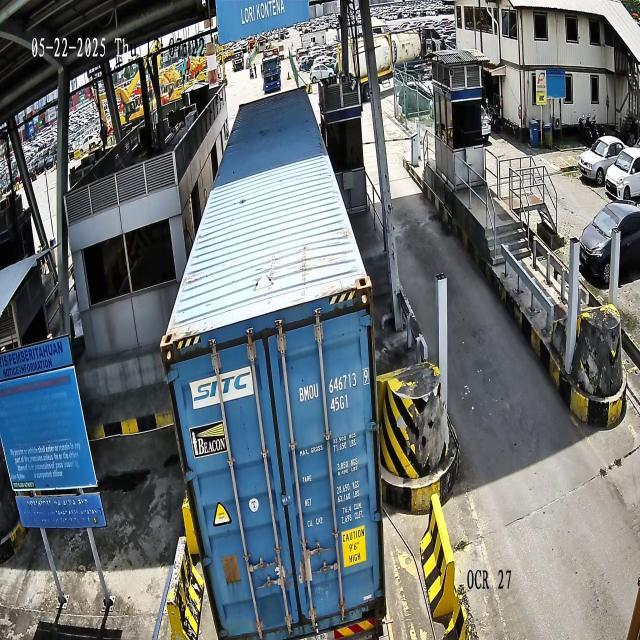ISO: (330, 392, 350, 413)
container_number: (298, 366, 370, 404)
